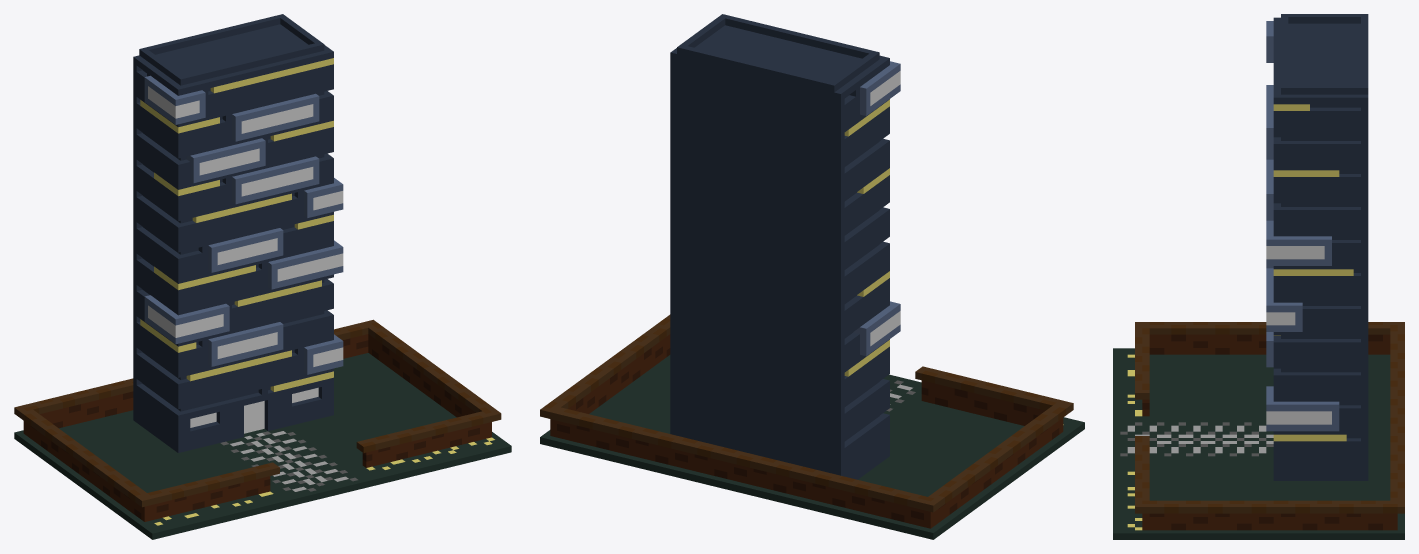
Rendered from ytekFabrika.obj.
The picture shows the model from 3 angles, left to right: view 1: azimuth 30°, elevation 25°; view 2: azimuth 150°, elevation 25°; view 3: azimuth 270°, elevation 25°; orthographic projection. The views are drawn at different scales.
Visible parts, largest first — view 1: ytekFabrika; view 2: ytekFabrika; view 3: ytekFabrika.
Part boxes in pixels (x1,y1,x2,y2): ytekFabrika: (14,14,511,539); ytekFabrika: (540,14,1084,539); ytekFabrika: (1113,14,1404,539).
Bounding box in the file's own units: 60 × 60 × 40.
1 material, 1 textured.
